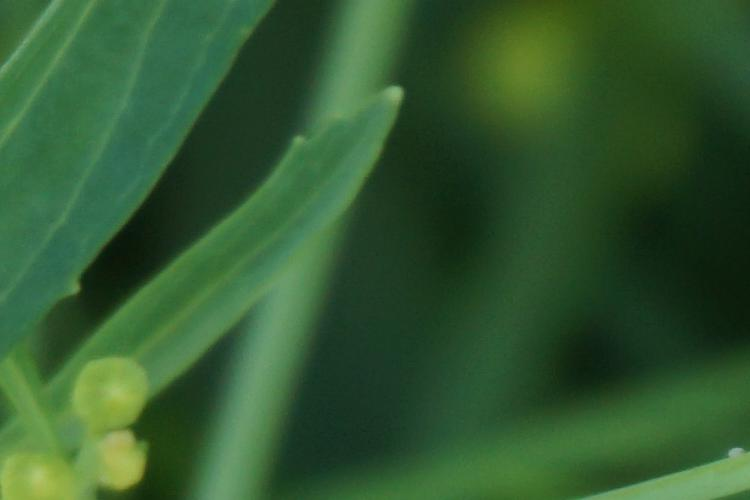bud: (68, 352, 158, 433), (6, 452, 80, 498)
